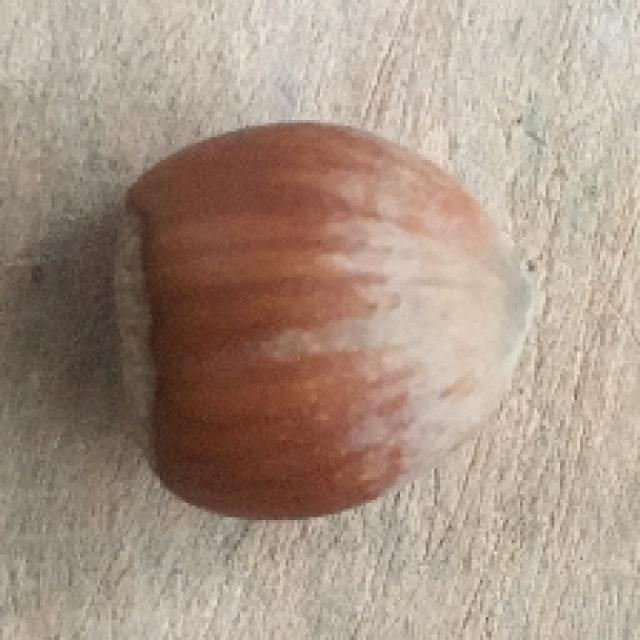qualityHazelnut: (119, 120, 539, 515)
